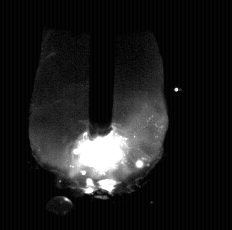arame: (91, 0, 114, 138)
poca: (28, 0, 170, 230)
